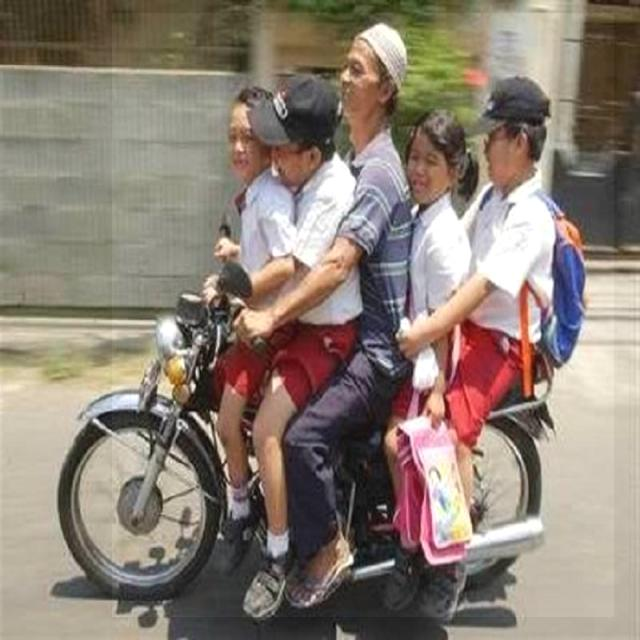Overloading: (112, 13, 614, 617)
